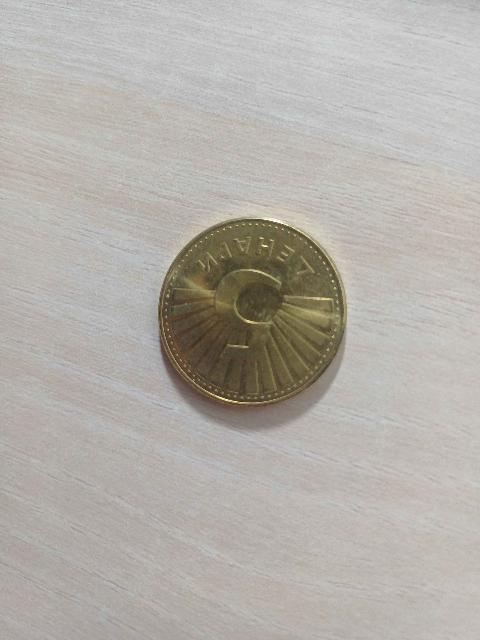5_coin: (159, 218, 346, 405)
